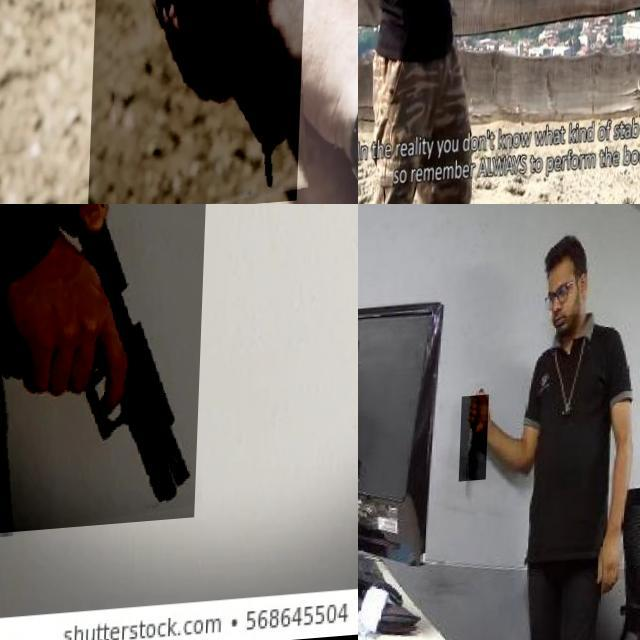-: (436, 0, 483, 66), (462, 398, 492, 486)
gun-knife-thesis - v11 Yolov5 augmented: (0, 204, 208, 536), (91, 0, 315, 204)
